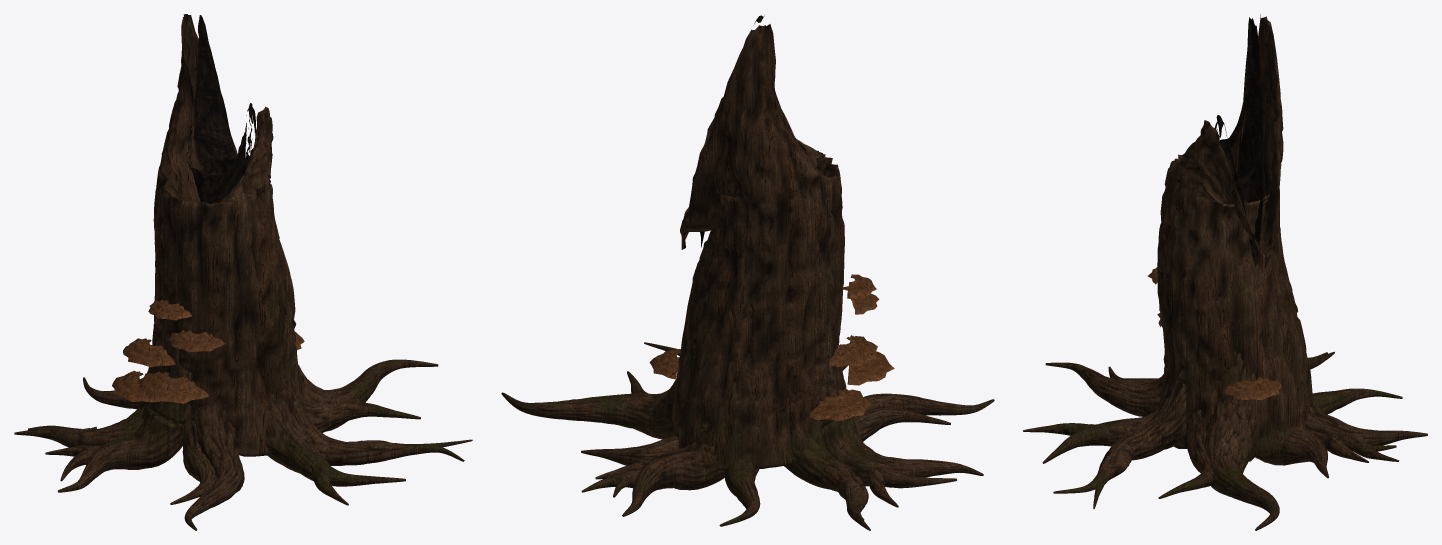
Rendered from twisted-stump-textured-v01.glb.
3 views of the same model, side by side, from view 1: azimuth 30°, elevation 25°; view 2: azimuth 150°, elevation 25°; view 3: azimuth 270°, elevation 25° (orthographic). The views are drawn at different scales.
Parts seen in each view (by area): view 1: Twisted stump | hollow split trunk, roots, shelf mushrooms, Twisted stump | hollow interior; view 2: Twisted stump | hollow split trunk, roots, shelf mushrooms; view 3: Twisted stump | hollow split trunk, roots, shelf mushrooms, Twisted stump | hollow interior.
Boxes of the visible parts, bbox=[...] form: Twisted stump | hollow split trunk, roots, shelf mushrooms: bbox=[14, 14, 472, 530]; Twisted stump | hollow interior: bbox=[186, 15, 255, 204]; Twisted stump | hollow split trunk, roots, shelf mushrooms: bbox=[501, 24, 994, 530]; Twisted stump | hollow split trunk, roots, shelf mushrooms: bbox=[1023, 14, 1427, 530]; Twisted stump | hollow interior: bbox=[1214, 17, 1263, 267].
Size of the model in its own units: 4.48 by 4.46 by 3.9.
Materials: 2 (2 with a texture image).
